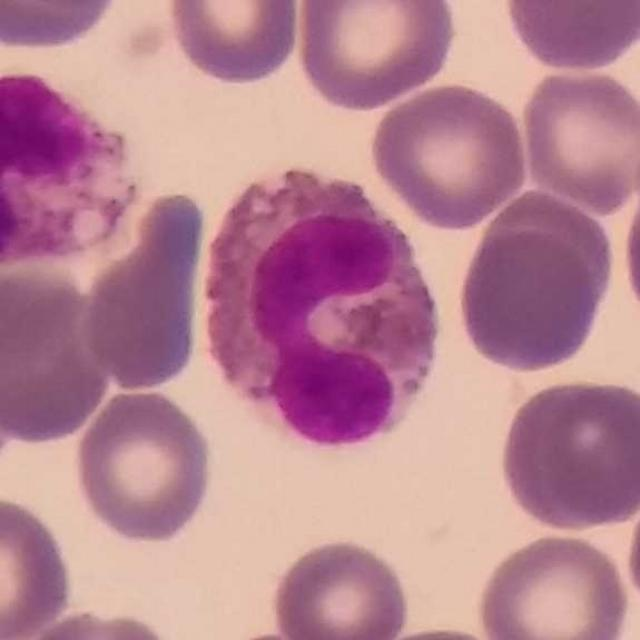eosino: (208, 163, 441, 450)
